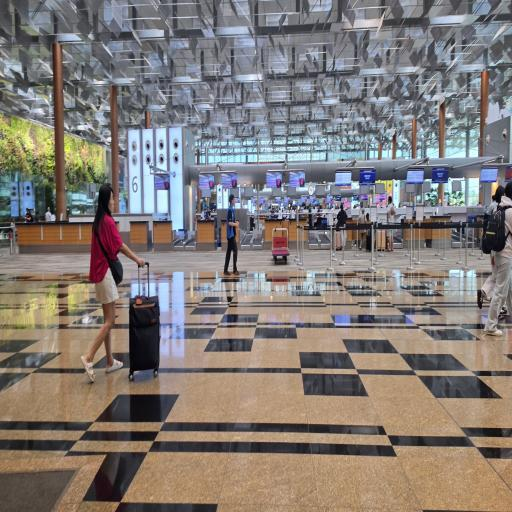person_right: (487, 186, 512, 326), (479, 184, 505, 302), (222, 190, 242, 274)
person_with_luggage_right: (82, 182, 170, 390)
